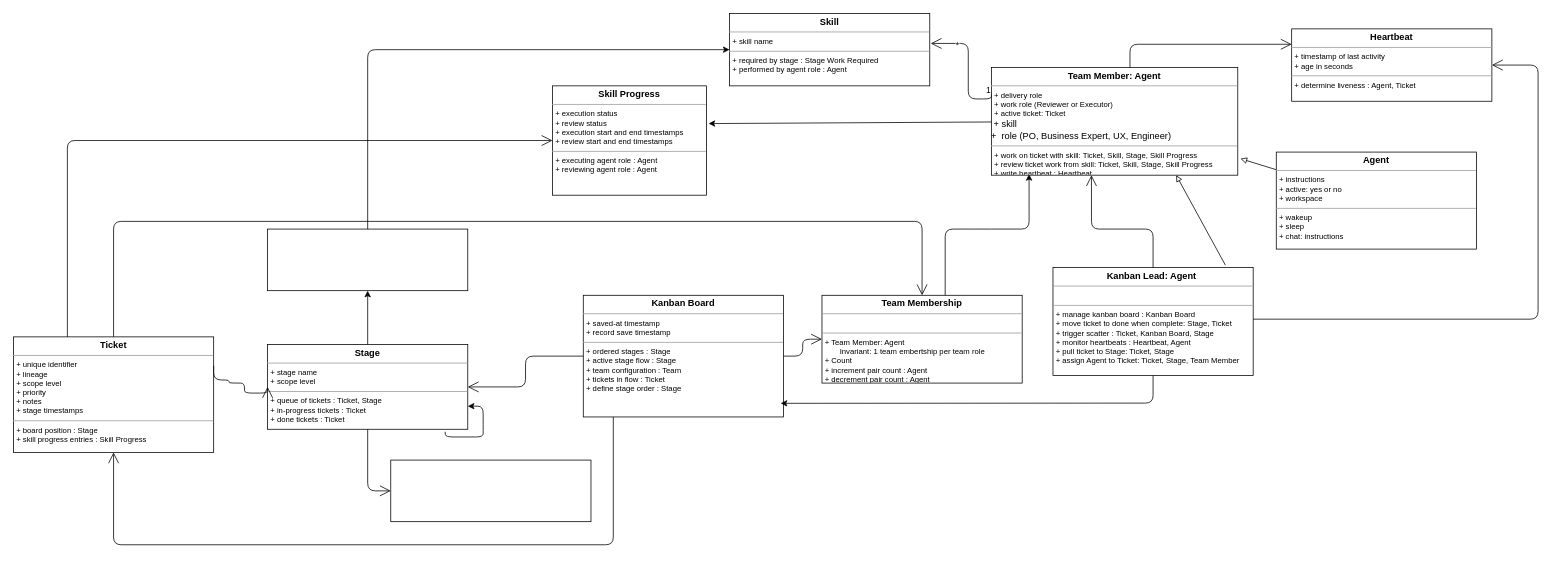
Image size: 1562x569. Some labels were removed from this diagram. Each missing label, with the centre of its shape:
"Board Position + in-progress or done sub-state + current stage : Stage" belongs at (x=490, y=490).
"Stage Work Required + ordered skills : Skill" belongs at (x=367, y=259).
